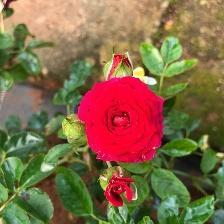rose: (76, 75, 168, 165)
